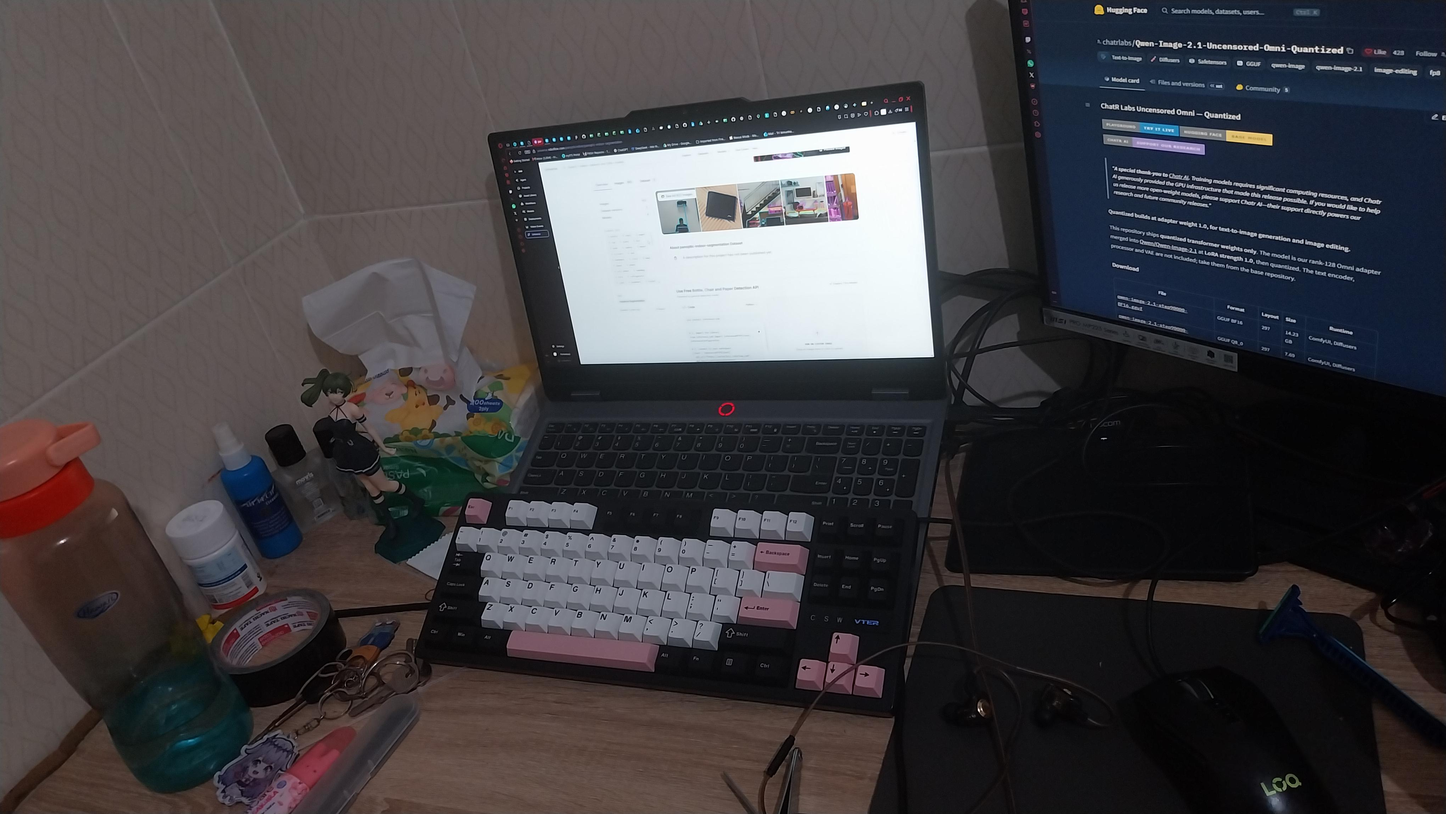bottle: (0, 383, 297, 814), (196, 413, 309, 565), (252, 412, 352, 533), (309, 413, 377, 526)
keyboard: (413, 453, 921, 719)
laptop: (485, 80, 965, 684)
mouse: (1115, 632, 1347, 814)
